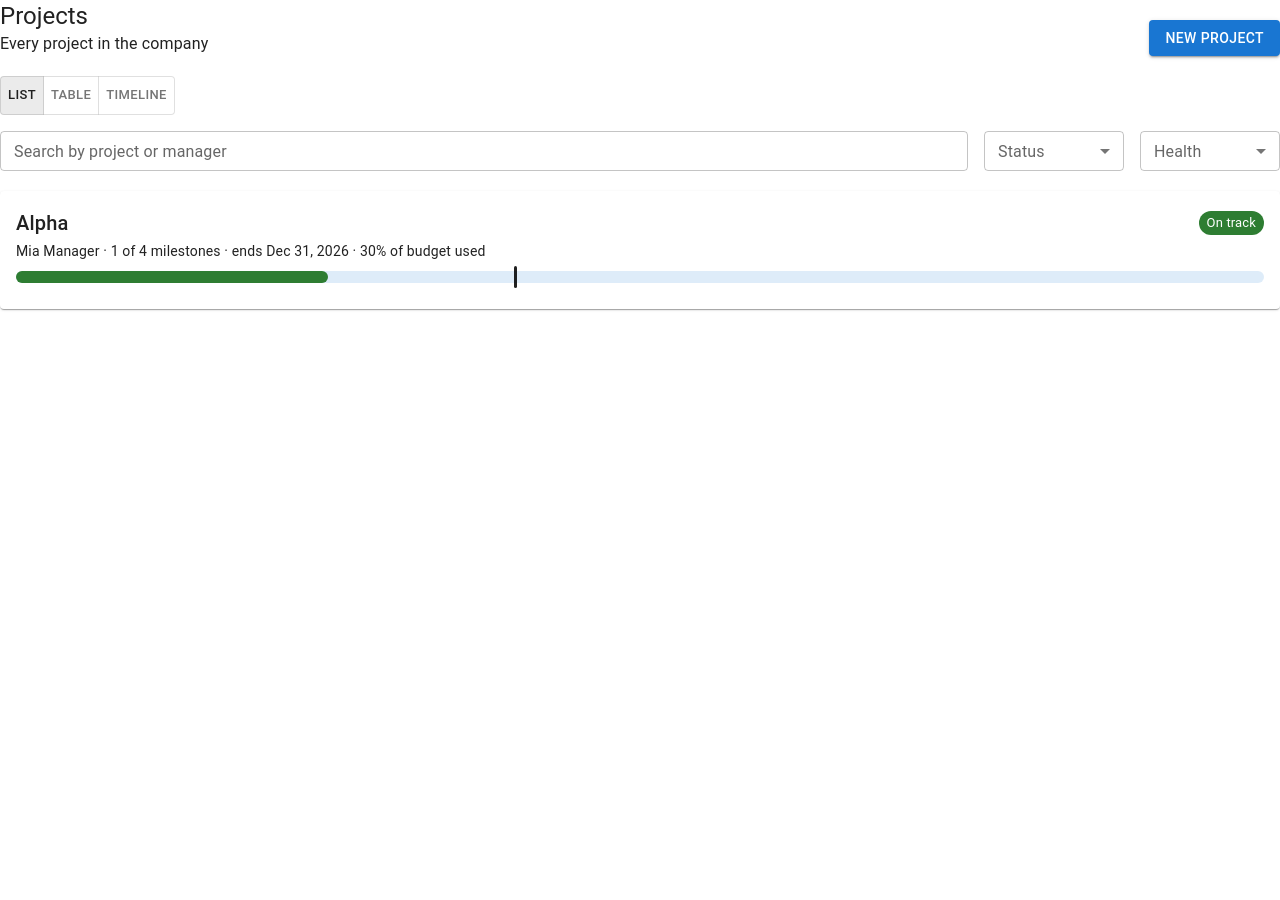
Projects list › new project › keeps the dialog open and shows the server reason when creating fails
Click the button "New project" at (1215, 38), box x1=1149 y1=20 x2=1279 y2=56
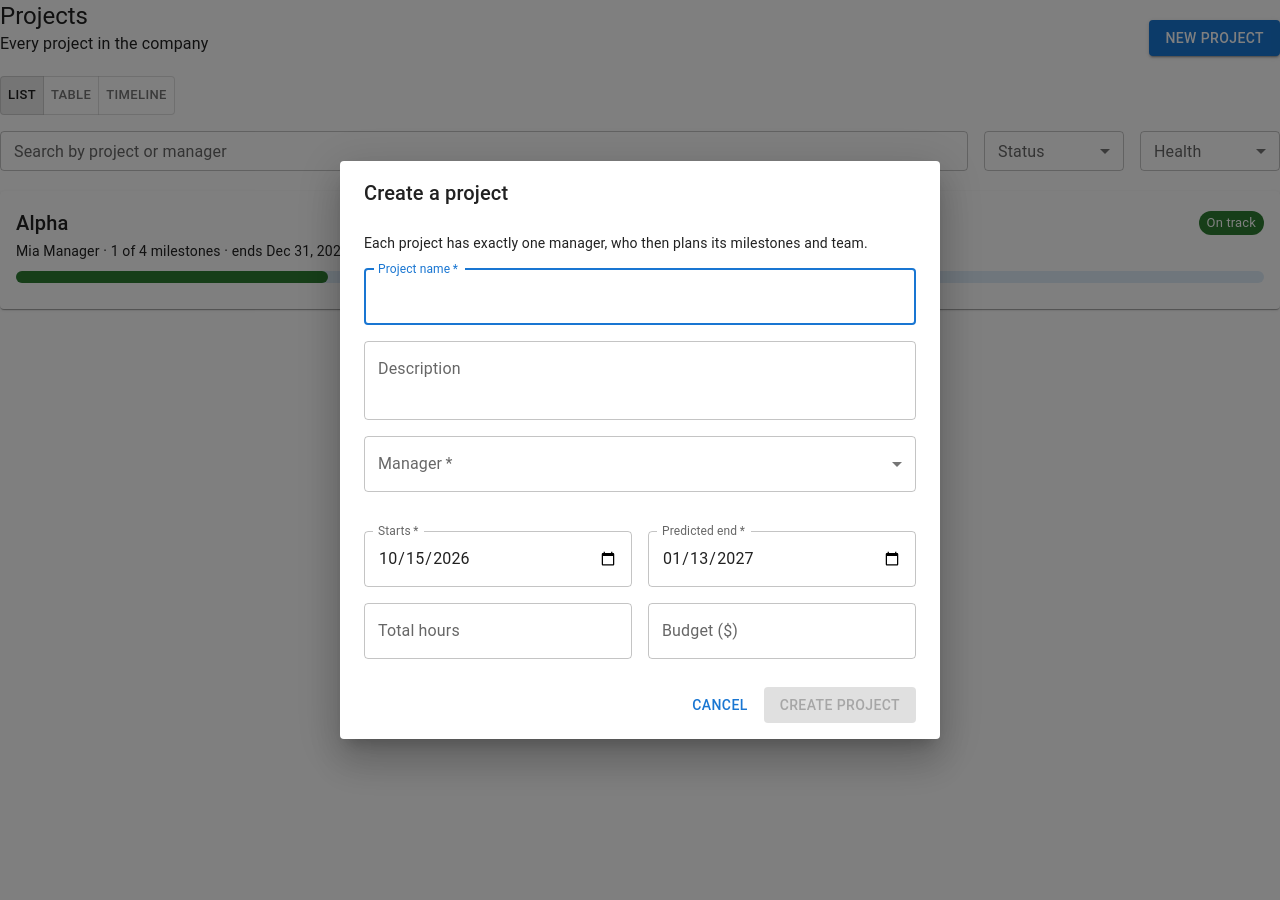
Type "Brand refresh" into the field labelled "Project name *" at (640, 297), box x1=364 y1=269 x2=916 y2=325
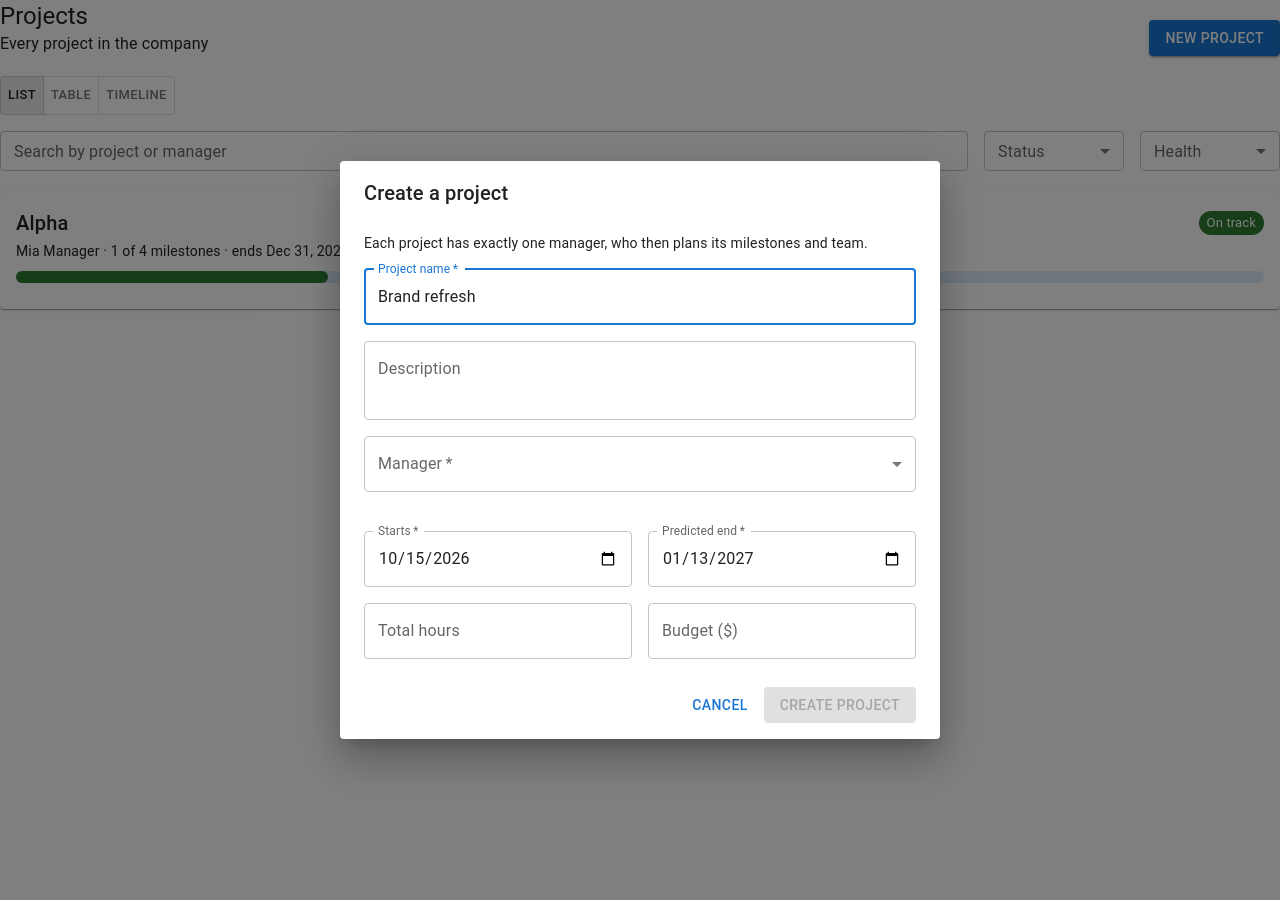
Click the dropdown named "Manager" at (640, 464), box x1=364 y1=436 x2=916 y2=492
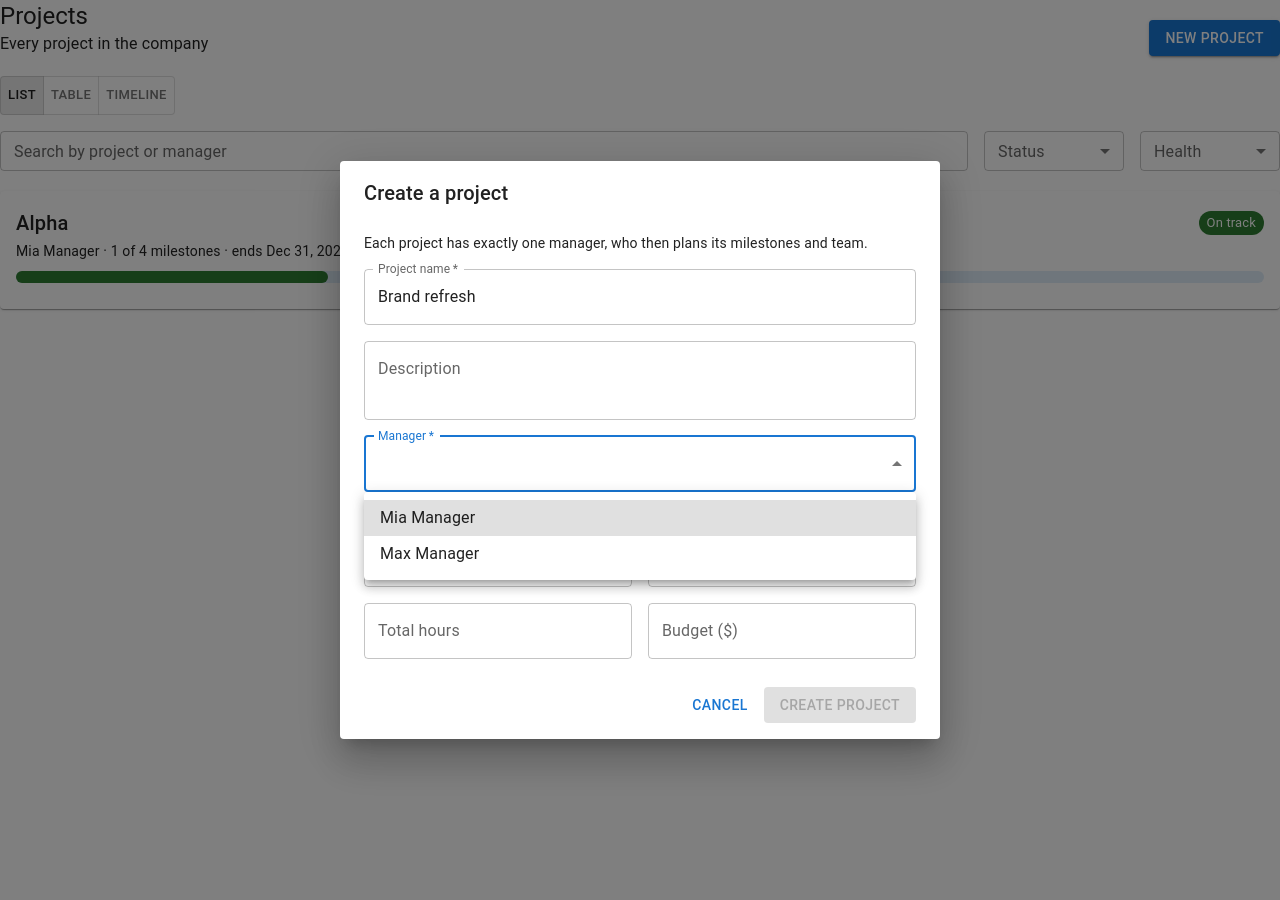
Click the option "Mia Manager" at (428, 518), box x1=364 y1=500 x2=916 y2=536
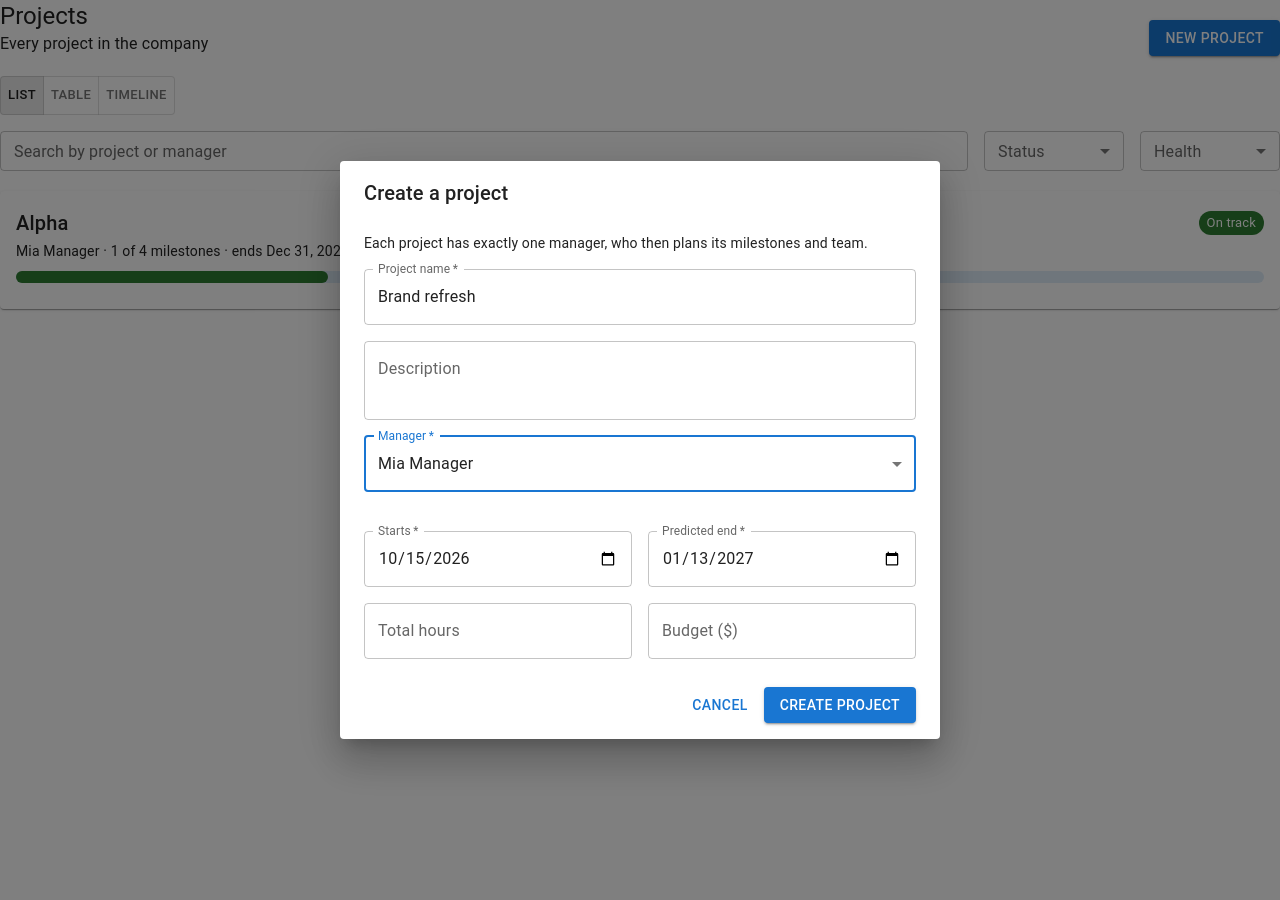
Click the button "Create project" at (840, 705), box x1=764 y1=687 x2=916 y2=723
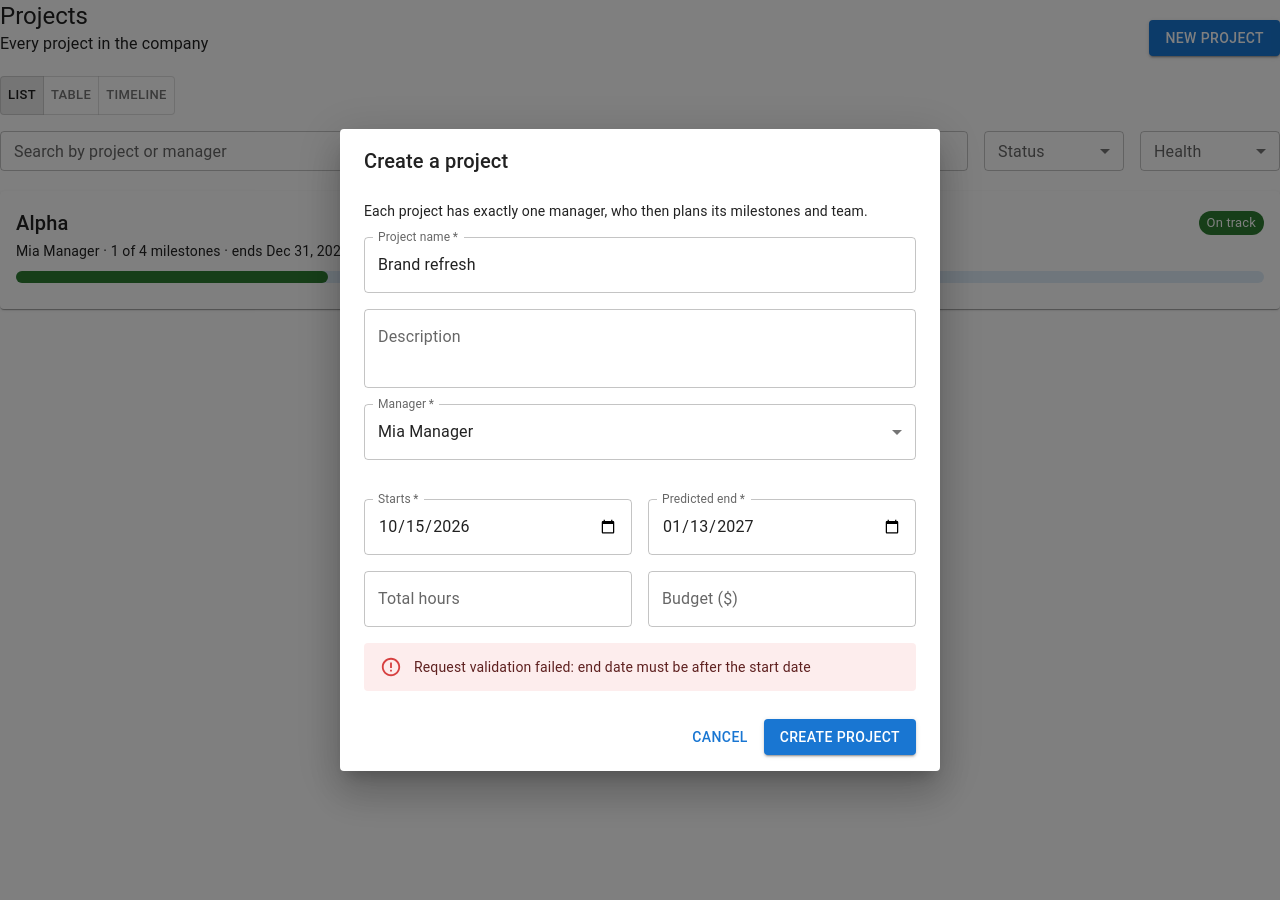
Expected: the dialog "Create a project" is shown, x1=340 y1=129 x2=940 y2=771
Expected: the text "Request validation failed: end date must be after the start date" is shown, x1=414 y1=659 x2=811 y2=675
